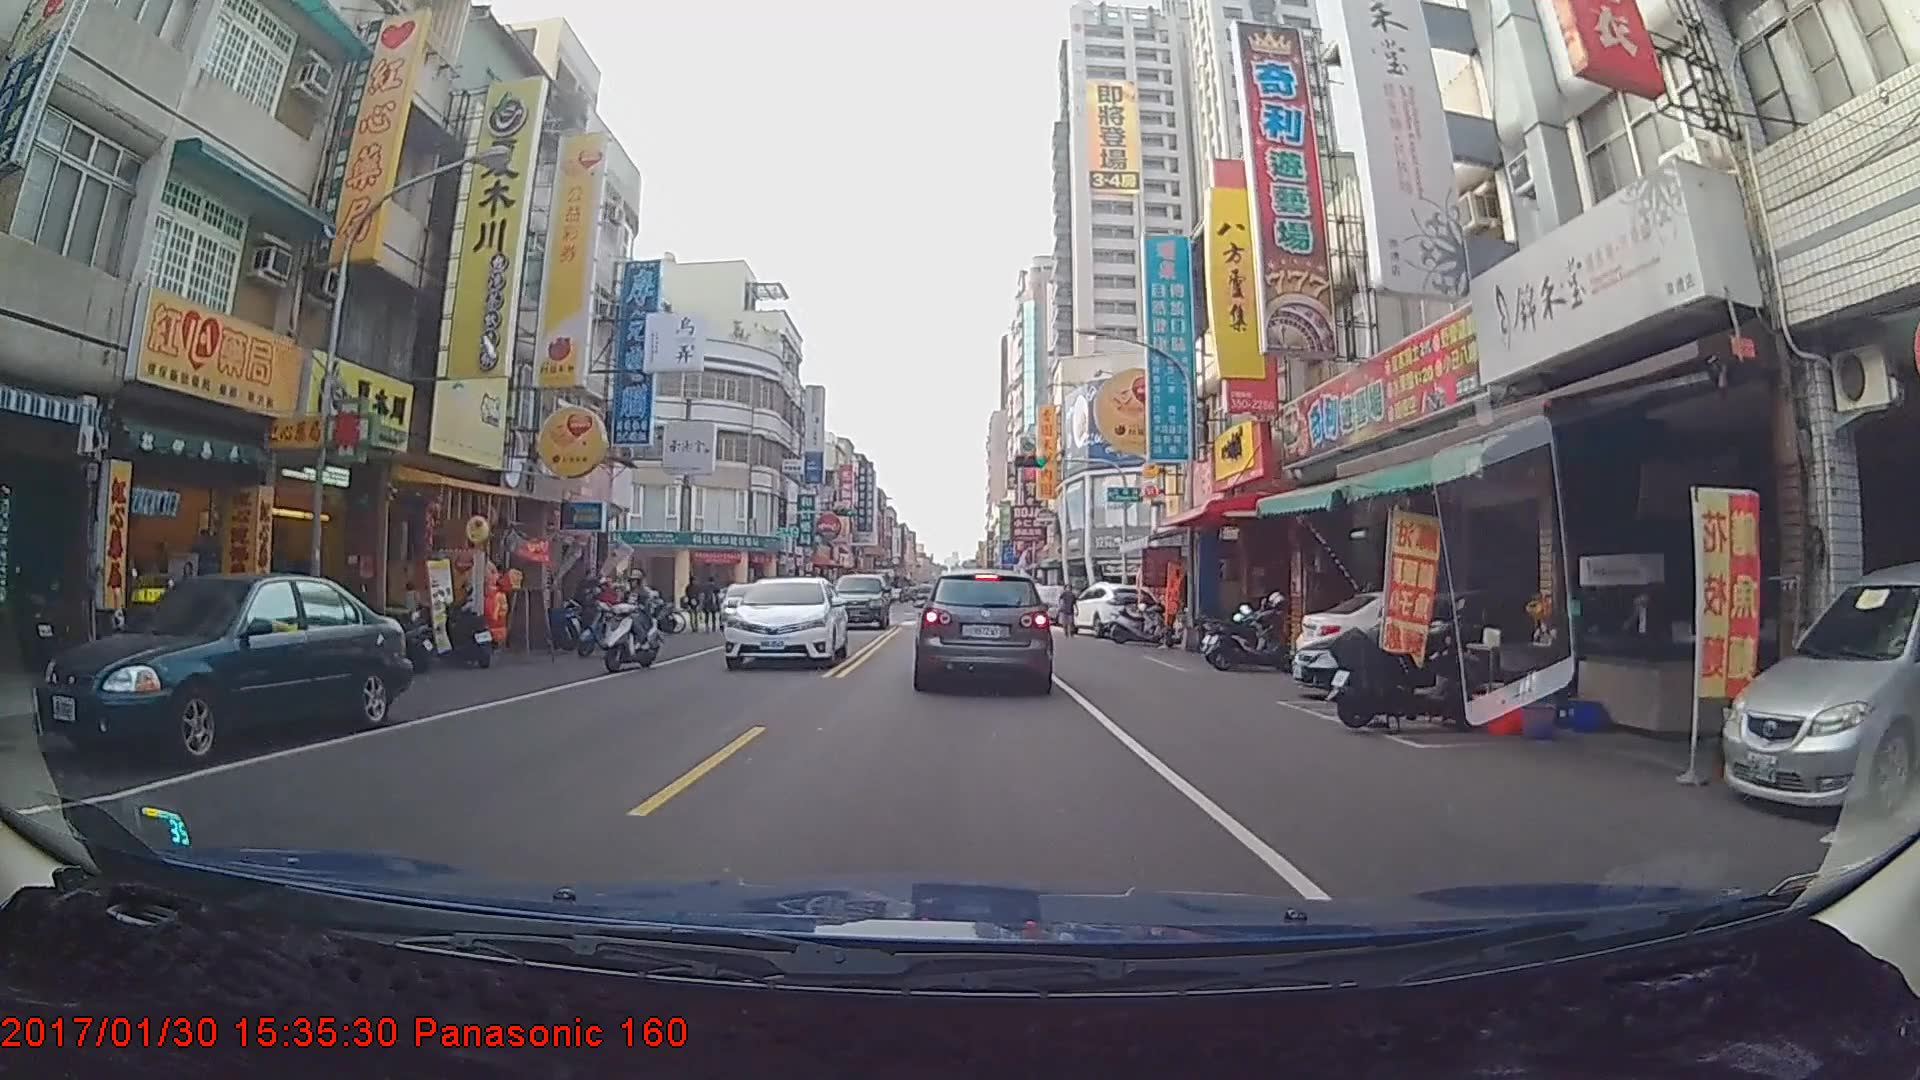pedestrian: (1059, 584, 1080, 639)
rider: (601, 565, 668, 676)
vehicle: (33, 571, 408, 769), (1717, 560, 1919, 822), (914, 567, 1052, 692), (723, 575, 850, 668), (1065, 581, 1163, 639), (826, 572, 891, 630), (715, 581, 775, 628)
